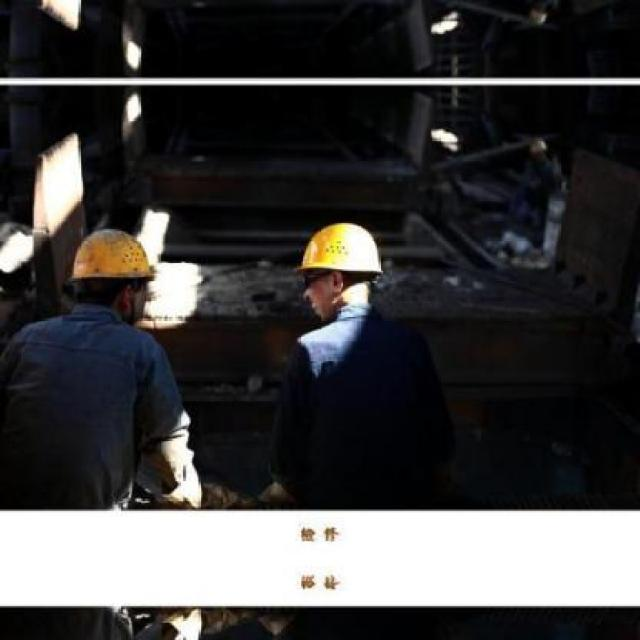Goggles: (297, 274, 335, 286)
Helmet: (290, 211, 388, 326), (65, 220, 160, 323)
